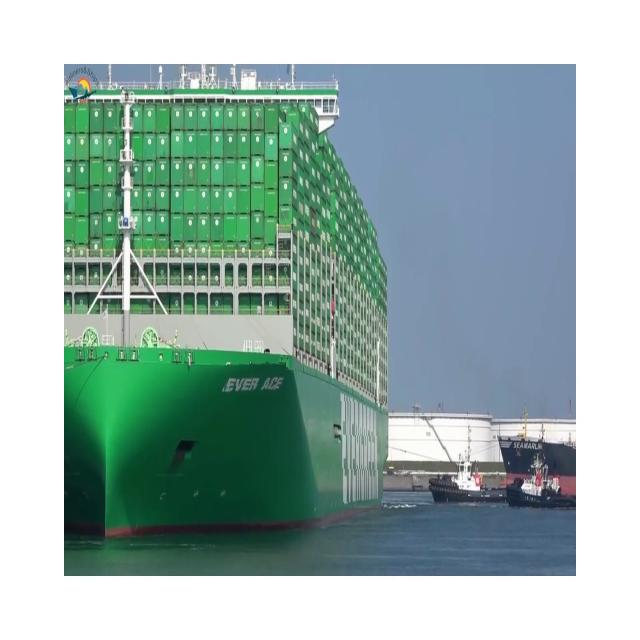OCR: (329, 383, 383, 508), (221, 362, 286, 409)
